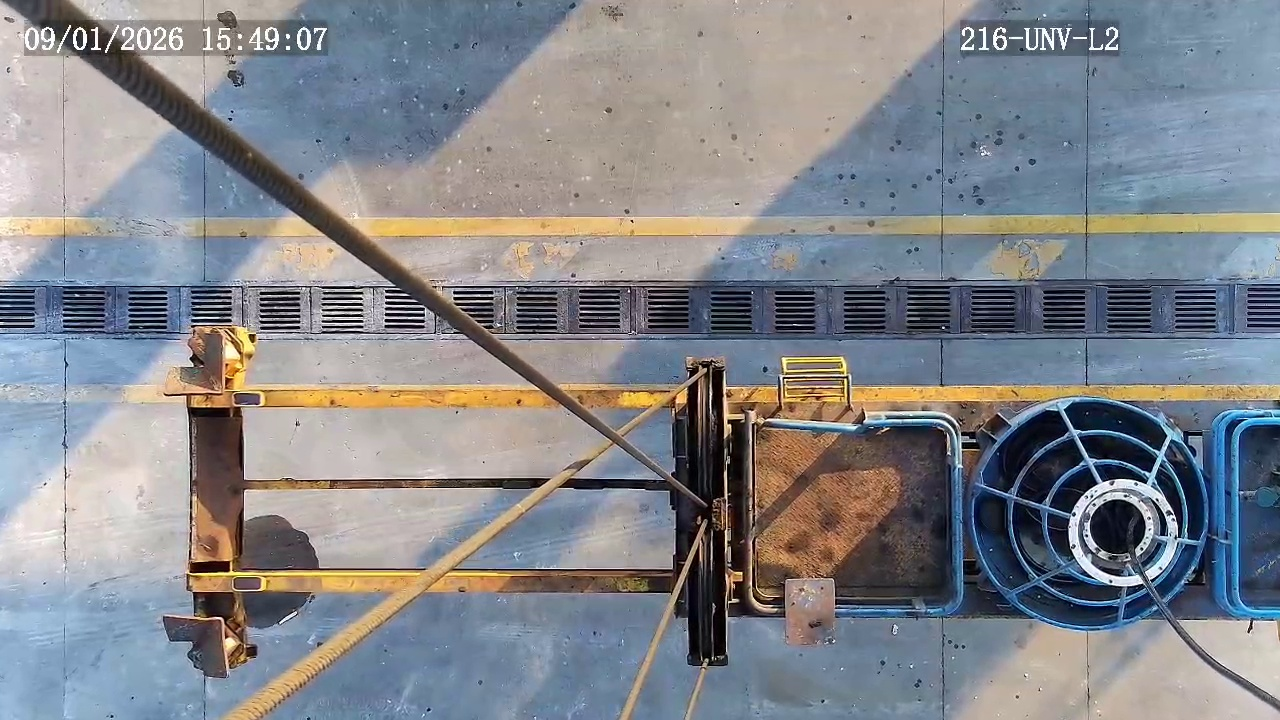left: (1066, 479, 1180, 586)
